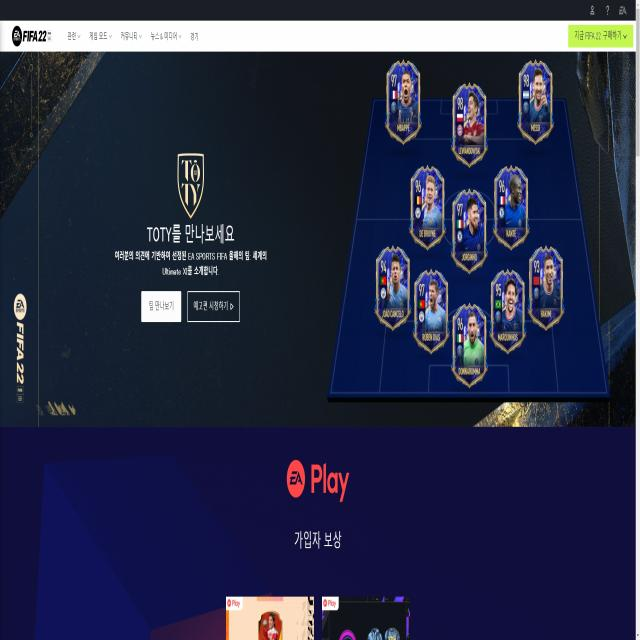menu-bar: (586, 1, 629, 19)
tab-bar: (8, 23, 204, 47)
